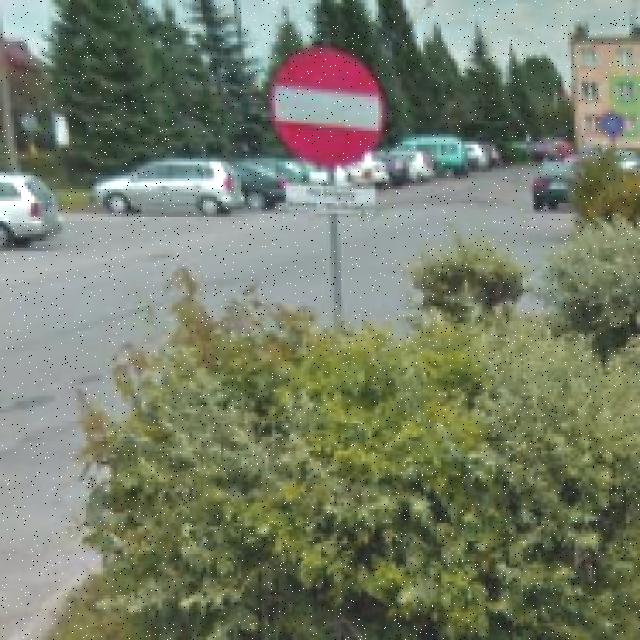Zakaz wjazdu: (266, 46, 388, 168)
Zakaz zatrzymywania sie: (596, 110, 626, 138)
